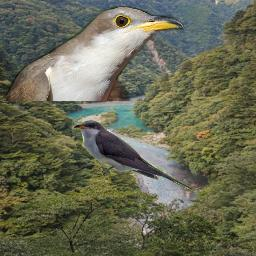Cuckoo: (6, 6, 184, 101), (72, 120, 195, 194)
